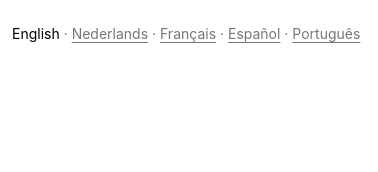
Scenario: LanguageLine › switches the page and keeps the pick
This screenshot has width=378, height=172.
Click the button "Nederlands" at (110, 34), box [72, 12, 148, 56]
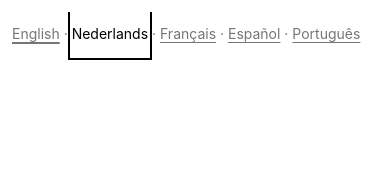
Expected: the navigation bar named "Taal" is shown, [12, 12, 360, 56]
